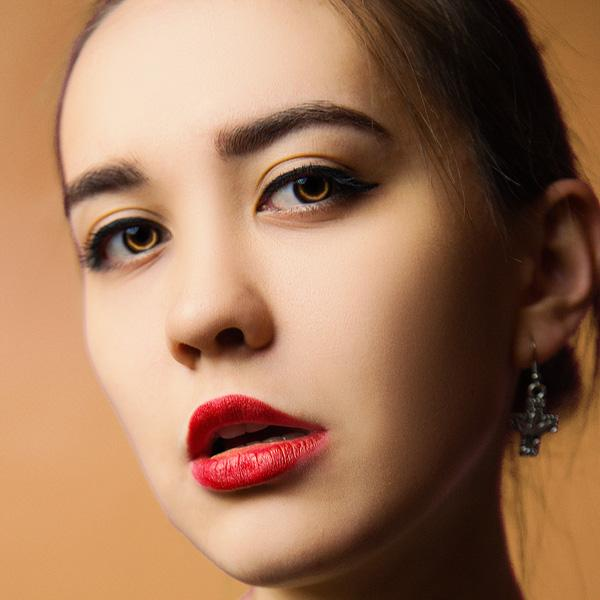Eyes: (247, 139, 381, 235), (81, 192, 181, 288)
